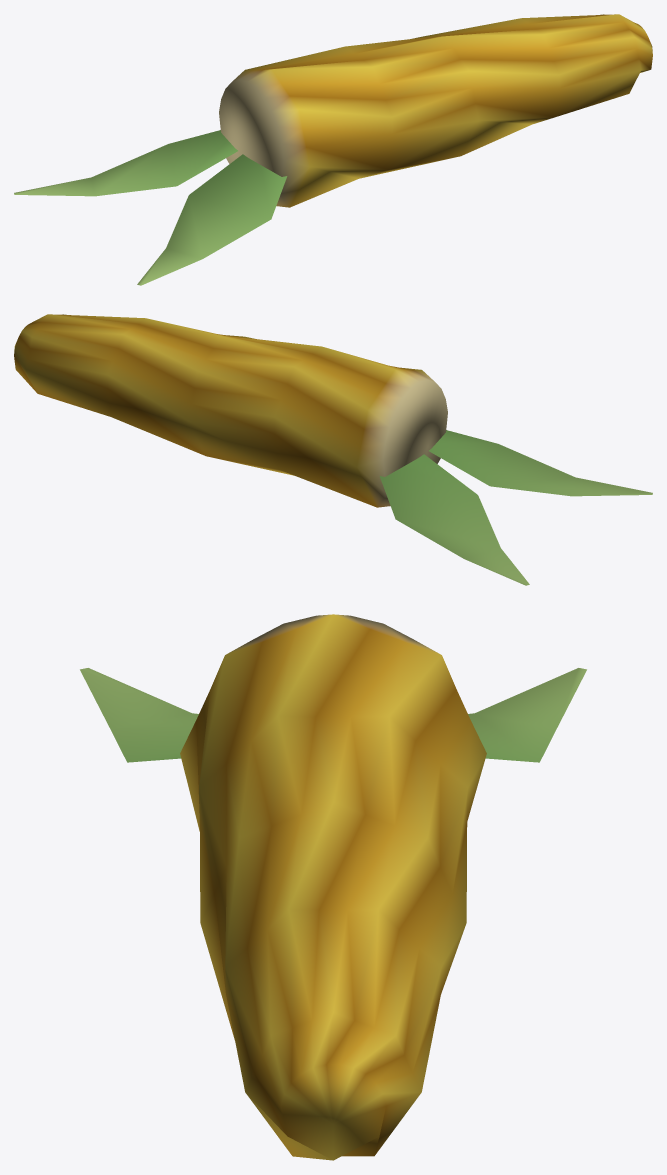
File: item_veg_corn.glb
3 views of the same model, one above another, from view 1: azimuth 30°, elevation 25°; view 2: azimuth 150°, elevation 25°; view 3: azimuth 270°, elevation 25° (orthographic). The views are drawn at different scales.
Parts seen in each view (by area): view 1: item_veg_corn_main; view 2: item_veg_corn_main; view 3: item_veg_corn_main.
Part boxes in pixels (x1,y1,x2,y2): item_veg_corn_main: (14,14,652,285); item_veg_corn_main: (14,314,652,585); item_veg_corn_main: (80,614,586,1160).
Bounding box in the file's own units: 0.279 × 0.0604 × 0.1064.
